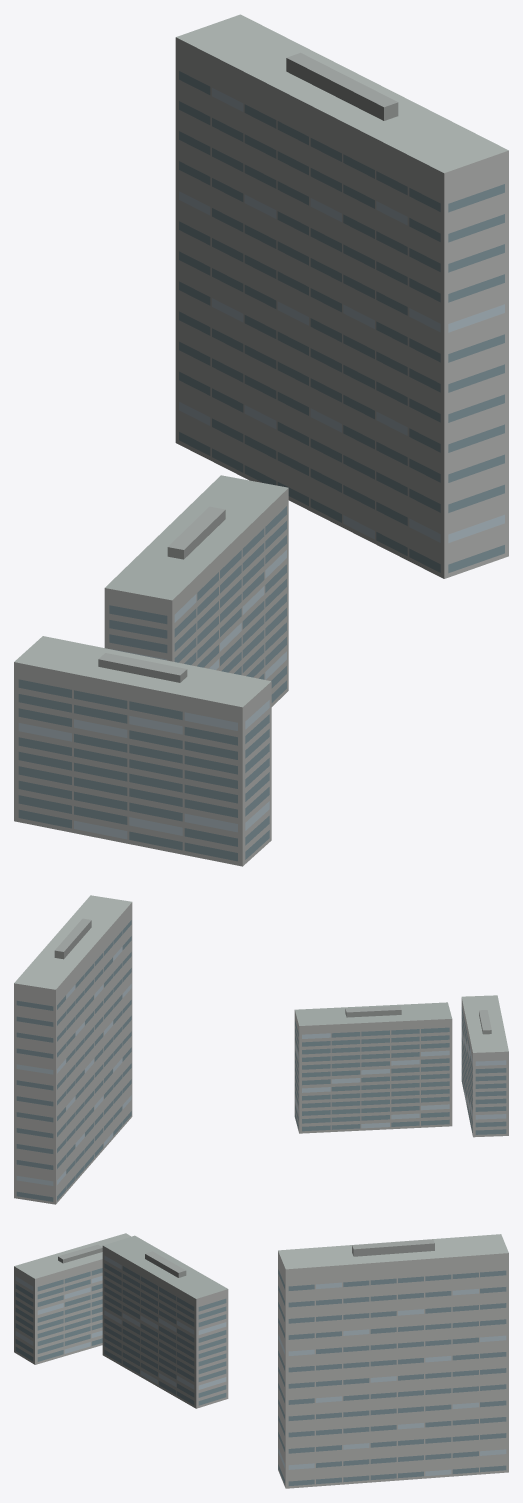
The model's file is apt-a10024638.glb.
The picture shows the model from 3 angles, top to bottom: view 1: azimuth 30°, elevation 25°; view 2: azimuth 150°, elevation 25°; view 3: azimuth 270°, elevation 25°; orthographic projection. The views are drawn at different scales.
Parts seen in each view (by area): view 1: apt-a10024638; view 2: apt-a10024638; view 3: apt-a10024638.
Boxes of the visible parts, bbox=[...] form: apt-a10024638: bbox=[14, 14, 508, 866]; apt-a10024638: bbox=[14, 895, 508, 1204]; apt-a10024638: bbox=[14, 1233, 508, 1488].
Size of the model in its own units: 117 by 73 by 144.
